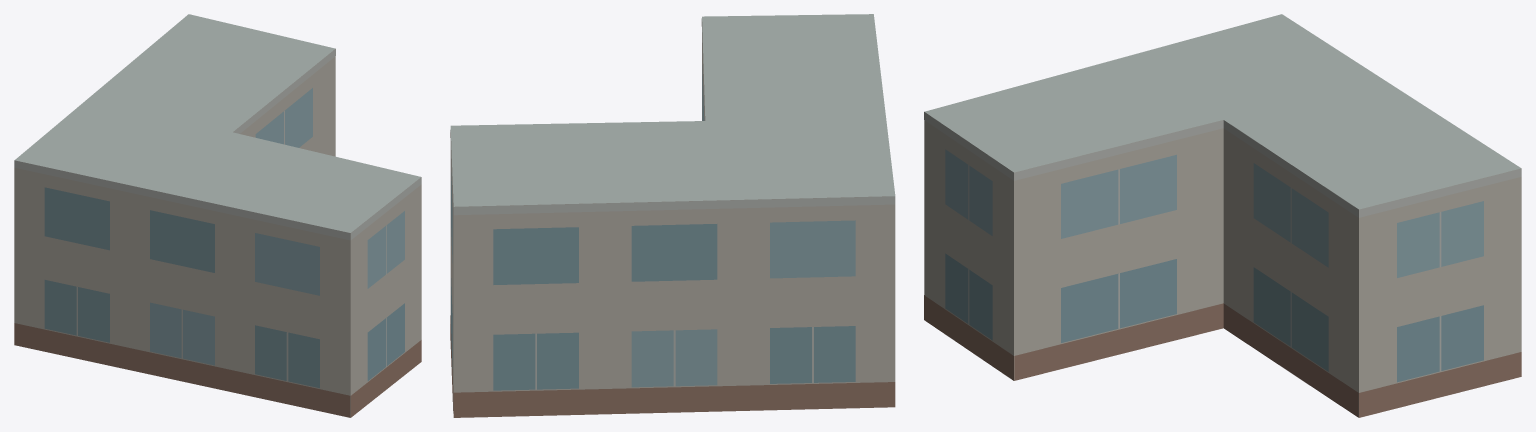
Rendered from survey-upis-32768787.glb.
The picture shows the model from 3 angles, left to right: view 1: azimuth 30°, elevation 25°; view 2: azimuth 150°, elevation 25°; view 3: azimuth 270°, elevation 25°; orthographic projection. The views are drawn at different scales.
Visible parts, largest first — view 1: survey-upis-32768787.tmp; view 2: survey-upis-32768787.tmp; view 3: survey-upis-32768787.tmp.
Part boxes in pixels (x1,y1,x2,y2): survey-upis-32768787.tmp: (14,14,421,417); survey-upis-32768787.tmp: (450,14,895,417); survey-upis-32768787.tmp: (924,14,1521,417).
Bounding box in the file's own units: 12.29 × 6.1 × 15.86.
